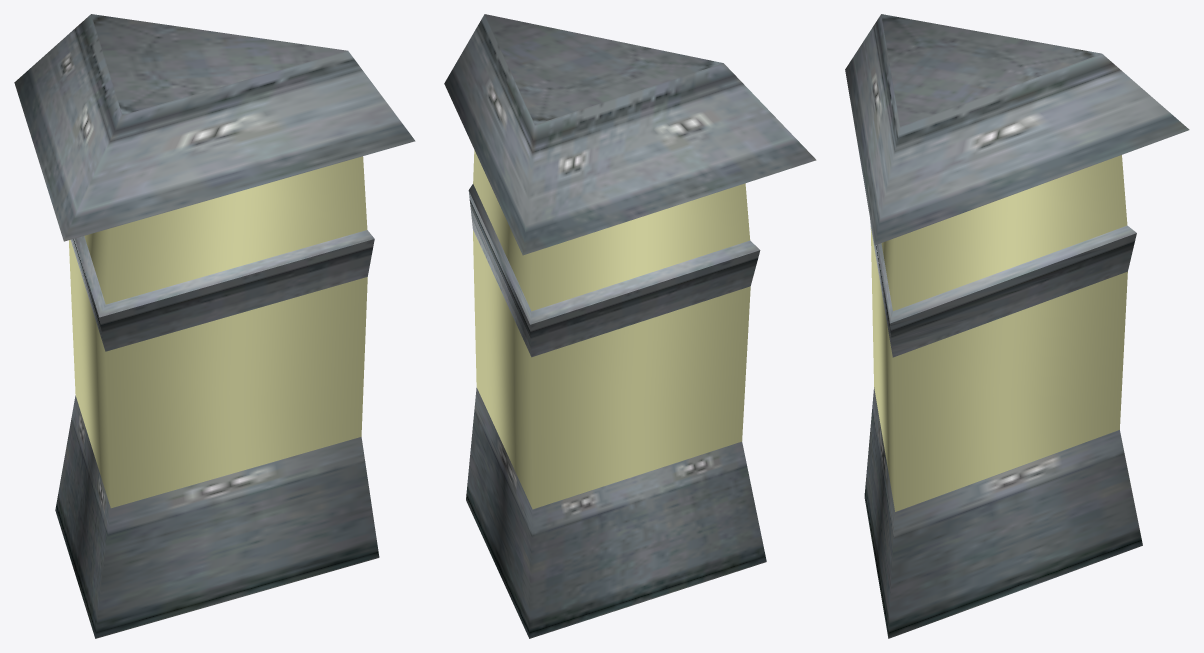
The model's file is frn_all_glow_lantern_s3_l3.fbx.
3 renders of one model, left to right at view 1: azimuth 30°, elevation 25°; view 2: azimuth 150°, elevation 25°; view 3: azimuth 270°, elevation 25°, orthographic. The views are drawn at different scales.
Parts seen in each view (by area): view 1: mesh_node; view 2: mesh_node; view 3: mesh_node.
Part boxes in pixels (<box>): mesh_node: <box>14,14,415,638</box>; mesh_node: <box>444,14,816,638</box>; mesh_node: <box>845,14,1189,638</box>.
Bounding box in the file's own units: 0.4089 × 0.542 × 0.3387.
